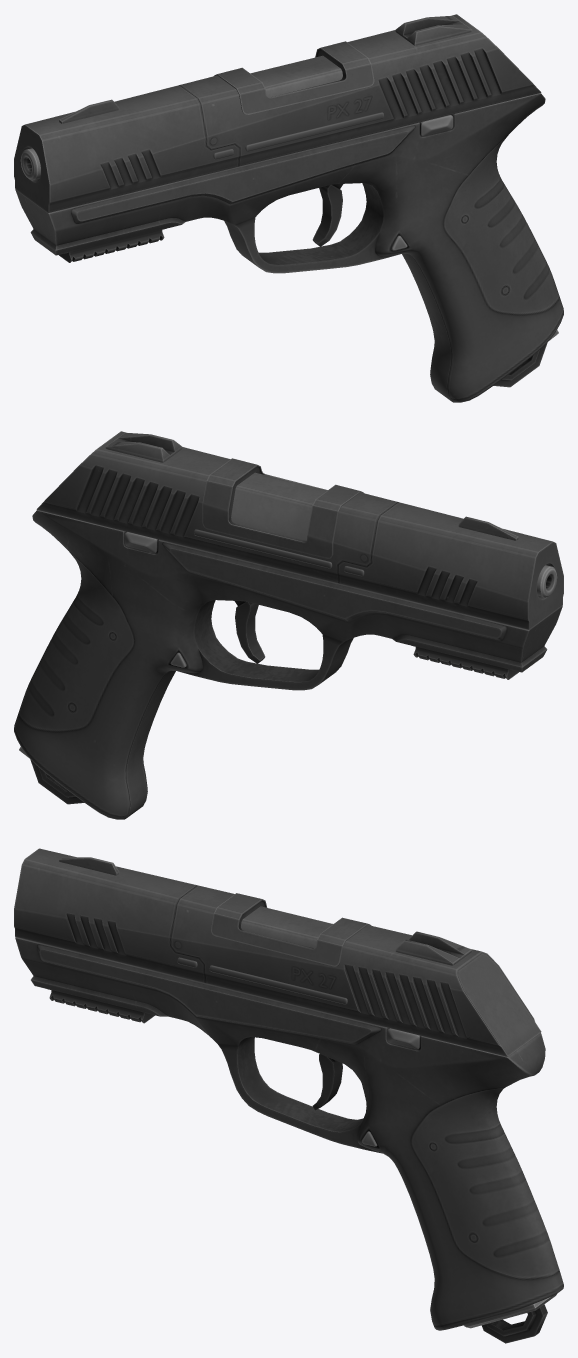
Rendered from px-27_gun_low_poly.glb.
The picture shows the model from 3 angles, top to bottom: view 1: azimuth 30°, elevation 25°; view 2: azimuth 150°, elevation 25°; view 3: azimuth 330°, elevation 25°; orthographic projection.
Visible parts, largest first — view 1: PX-27; view 2: PX-27; view 3: PX-27.
Part boxes in pixels (bbox=[...]): PX-27: bbox=[14, 14, 563, 402]; PX-27: bbox=[14, 431, 563, 819]; PX-27: bbox=[14, 848, 563, 1343].
Bounding box in the file's own units: 2.06 × 1.41 × 0.2565.
Materials: 1 (1 with a texture image).
